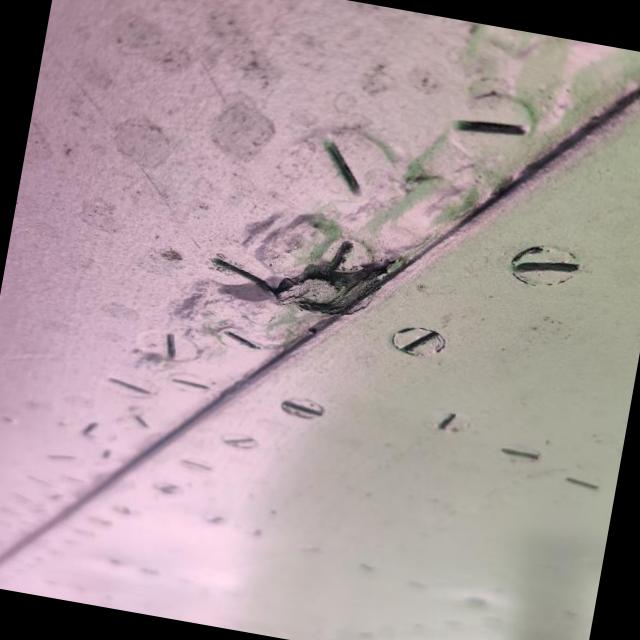Paint-off: (270, 240, 407, 315)
